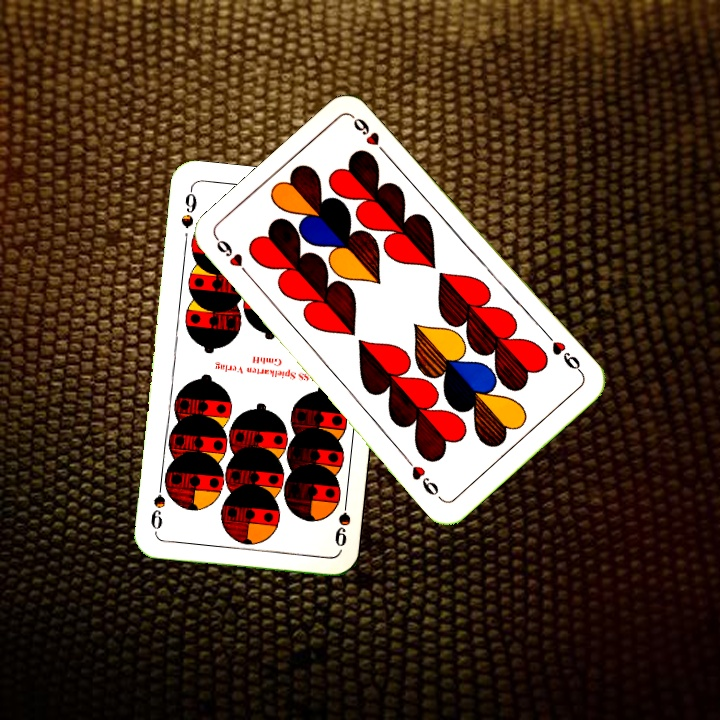H9: (542, 329, 586, 377), (212, 235, 256, 283)
S9: (330, 492, 354, 549), (176, 185, 200, 231)
